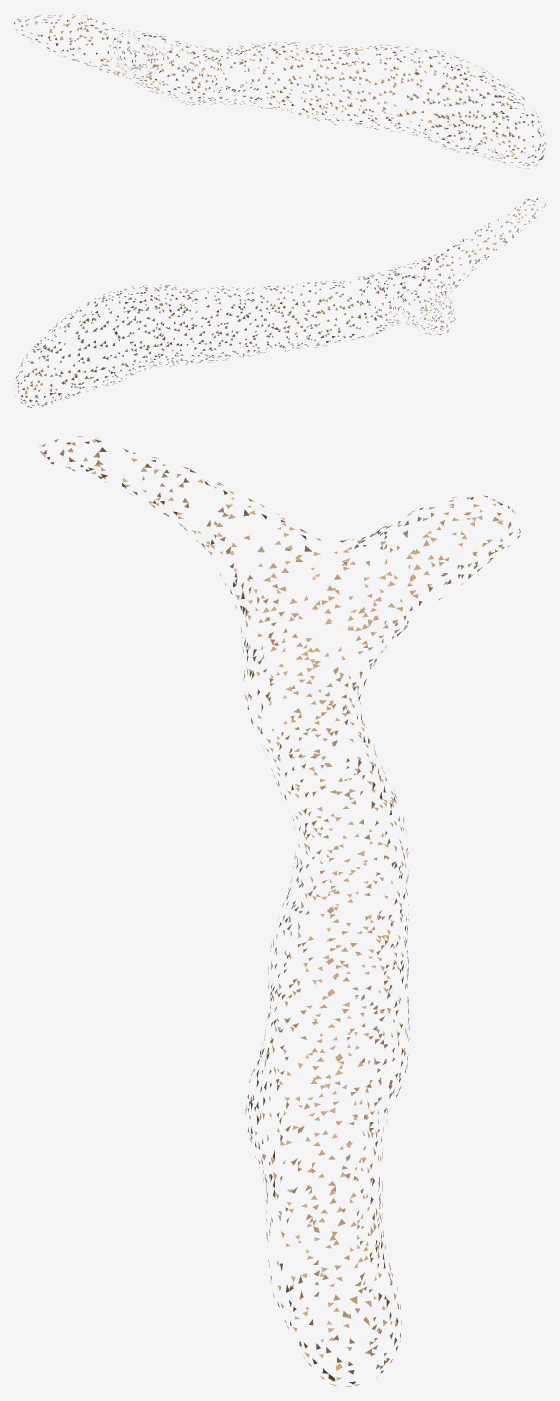
File: morph_006.glb
3 views of the same model, one above another, from view 1: azimuth 30°, elevation 25°; view 2: azimuth 150°, elevation 25°; view 3: azimuth 270°, elevation 25° (orthographic). The views are drawn at different scales.
Bounding box in the file's own units: 111 × 59.58 × 49.45.
